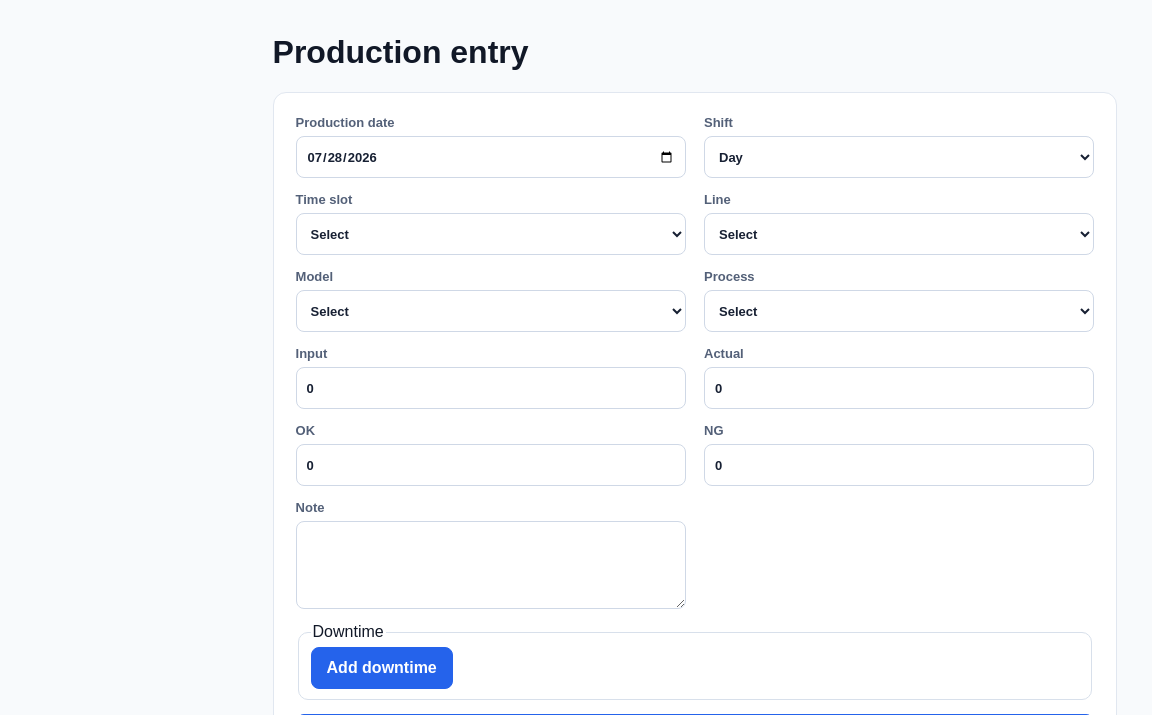
Test: ProductionEntryPage › shows preview and prevents double submit
Earlier steps of the test are not shown.
Later steps or results of the test are not shown.
Select "A" in the dropdown labelled "Time slot" at coordinates (491, 234), box [296, 213, 686, 255]
Select "Line" in the dropdown labelled "Line" at coordinates (899, 234), box [704, 213, 1094, 255]
Select "Model" in the dropdown labelled "Model" at coordinates (491, 311), box [296, 290, 686, 332]
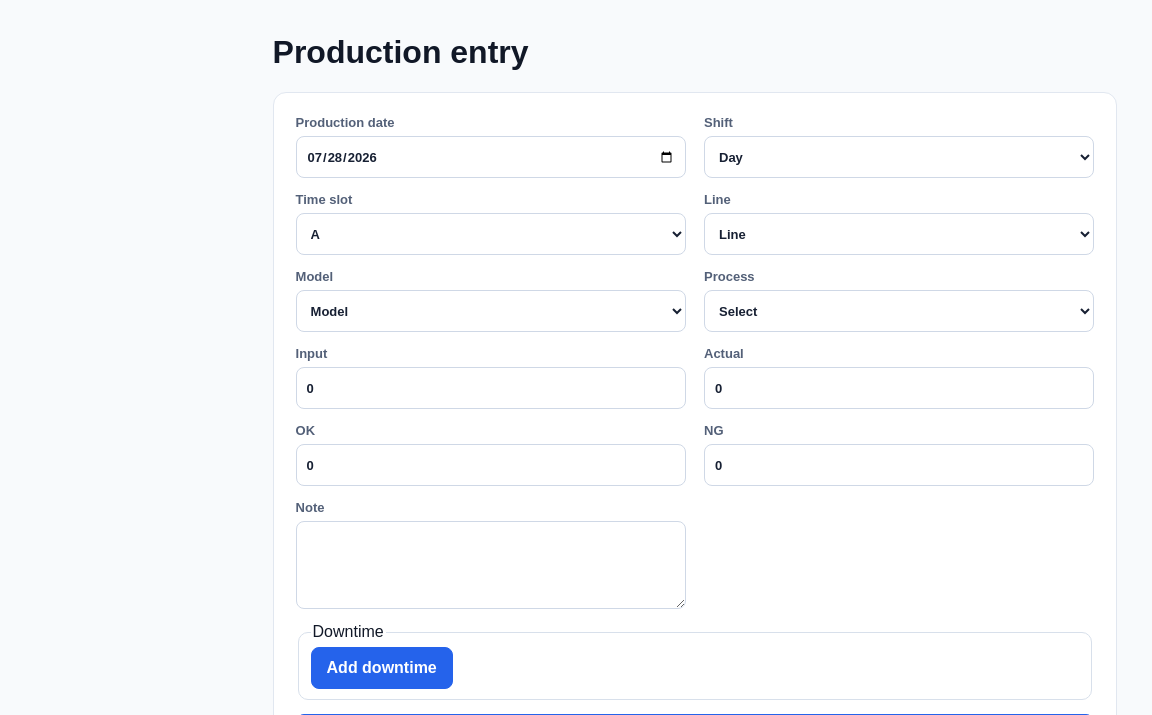
Select "AOI" in the dropdown labelled "Process" at coordinates (899, 311), box [704, 290, 1094, 332]
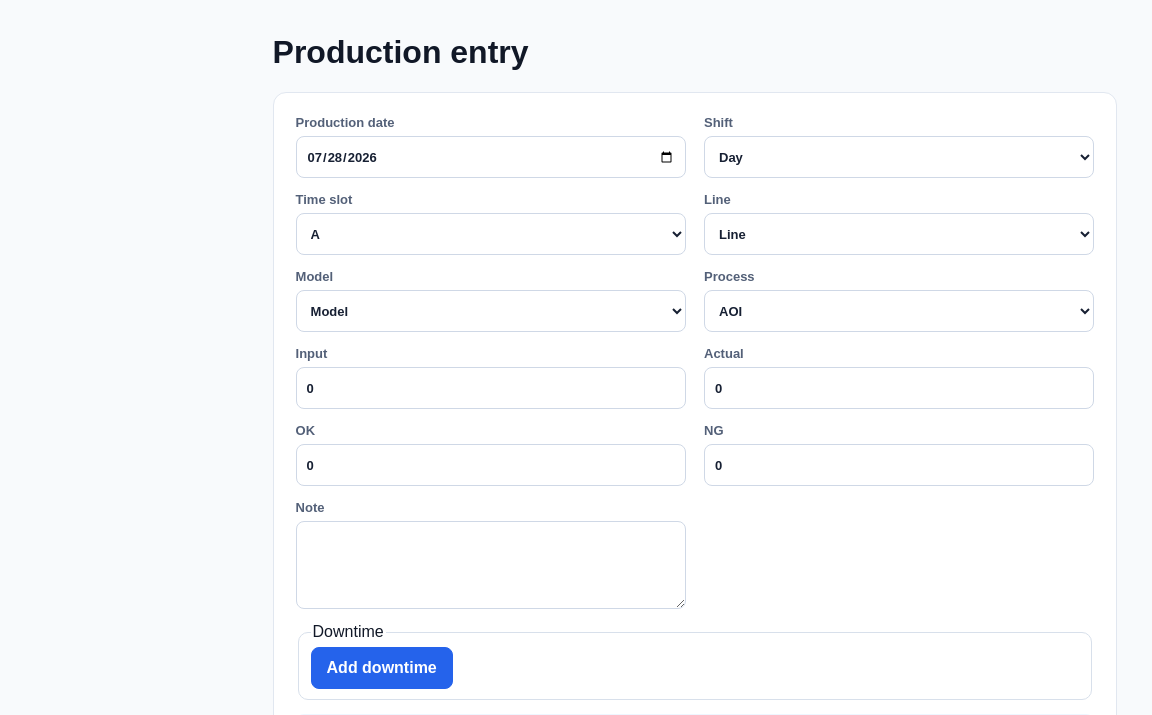
Replace the text in the number field labelled "Input" with "10" at coordinates (491, 388), box [296, 367, 686, 409]
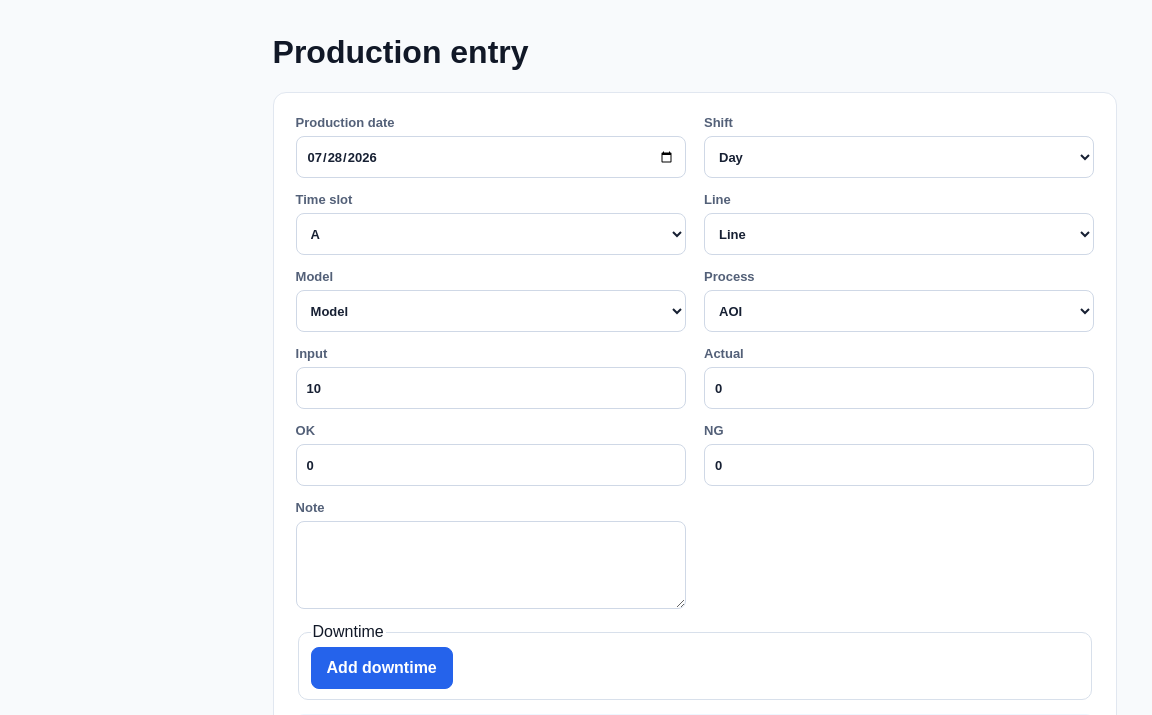
Replace the text in the number field labelled "Actual" with "9" at coordinates (899, 388), box [704, 367, 1094, 409]
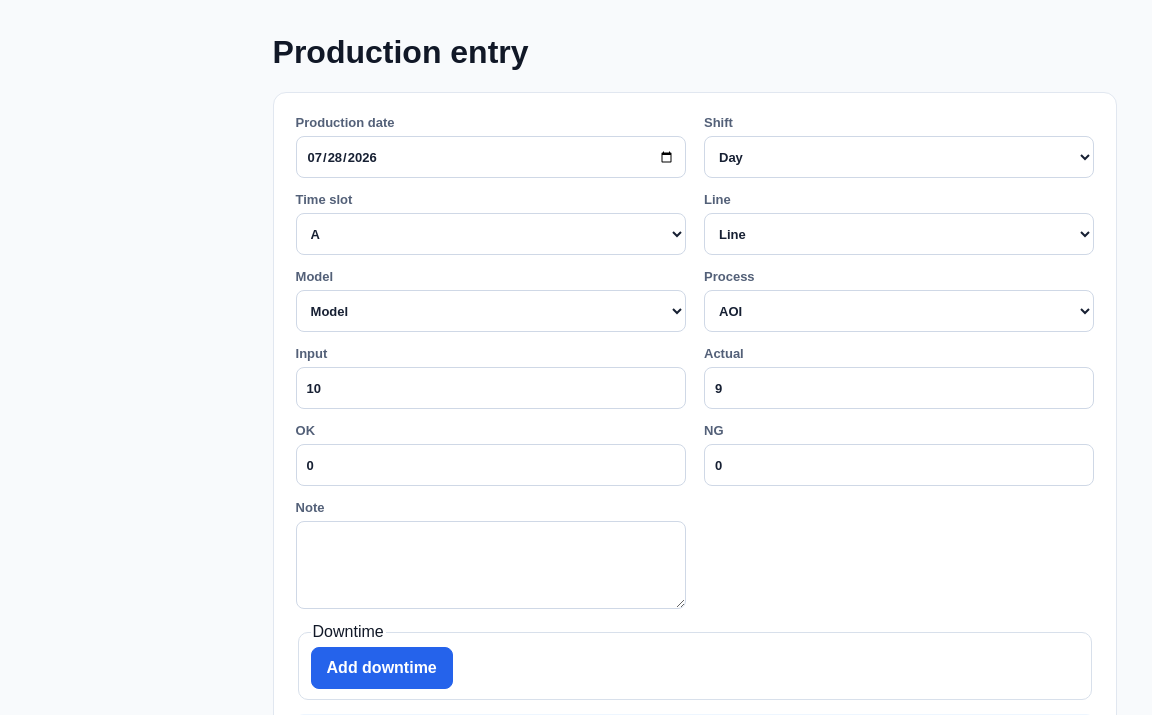
Replace the text in the number field labelled "OK" with "9" at coordinates (491, 465), box [296, 444, 686, 486]
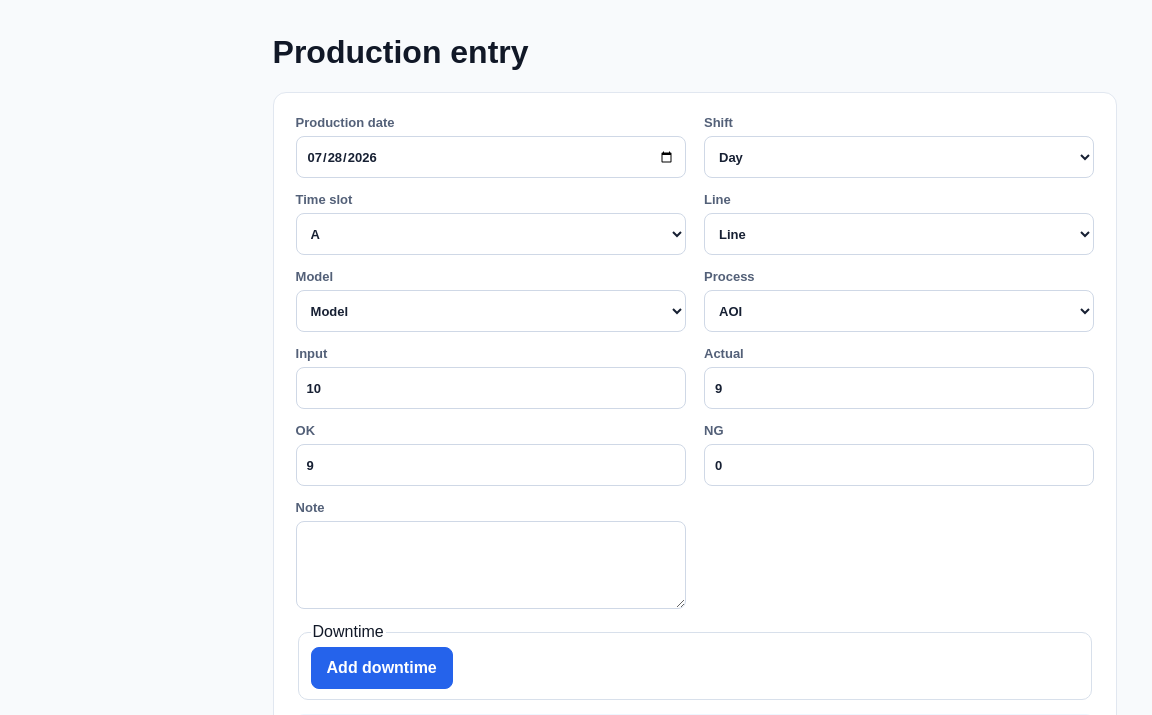
Replace the text in the number field labelled "NG" with "1" at coordinates (899, 465), box [704, 444, 1094, 486]
(page scrolled)
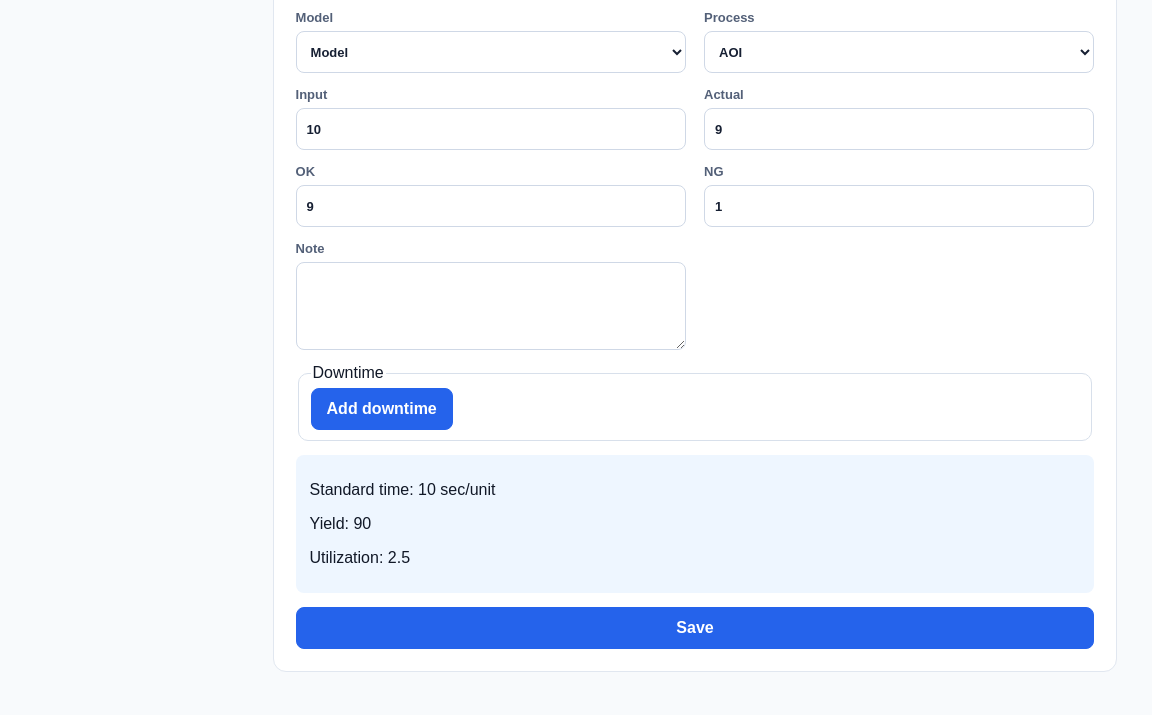
Result: the text "Standard time: 10 sec/unit" is shown at [310, 481, 495, 498]
